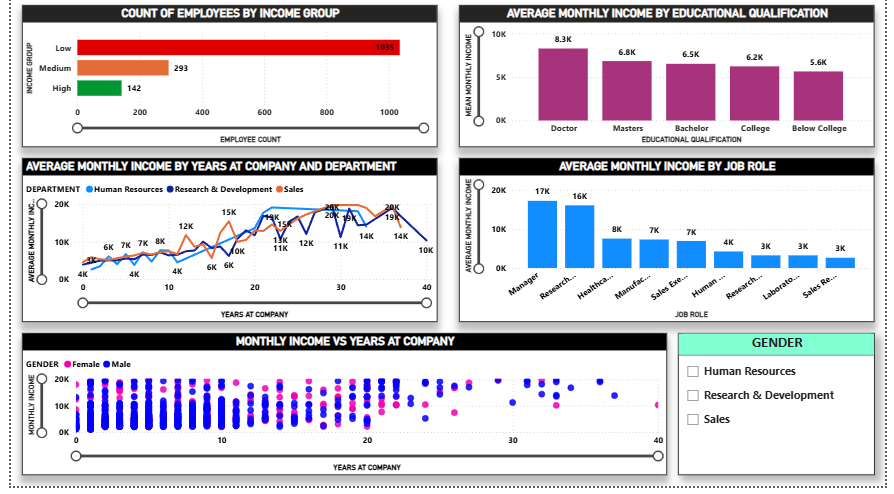

What the dashboard file says about the page in this screenshot:
{"tool":"powerbi","page":{"name":"Page 3-Income & Compensation","canvas":[1280,720],"ordinal":2},"visuals":[{"type":"barChart","title":"COUNT OF EMPLOYEES BY INCOME GROUP","fields":{"Category":["HR Employee Attrition.Income_Group"],"Y":["View.Count_Of_Employees"]},"box":[16,16,608,208],"z":0},{"type":"clusteredColumnChart","title":"AVERAGE MONTHLY INCOME BY JOB ROLE","fields":{"Y":["View.Average_Monthly_Income"],"Category":["HR Employee Attrition.Job_Role"]},"box":[656,240,608,240],"z":1000},{"type":"clusteredColumnChart","title":"AVERAGE MONTHLY INCOME BY EDUCATIONAL QUALIFICATION","fields":{"Category":["HR Employee Attrition.Educational_Qualification"],"Y":["View.Average_Monthly_Income"]},"box":[656,16,608,208],"z":2000},{"type":"scatterChart","title":"MONTHLY INCOME VS YEARS AT COMPANY","fields":{"Y":["HR Employee Attrition.Monthly_Income"],"X":["HR Employee Attrition.Years_At_Company"],"Series":["HR Employee Attrition.Gender"]},"box":[16,496,944,208],"z":3000},{"type":"lineChart","title":"AVERAGE MONTHLY INCOME BY YEARS AT COMPANY AND DEPARTMENT","fields":{"Category":["HR Employee Attrition.Years_At_Company"],"Y":["View.Average_Monthly_Income"],"Series":["HR Employee Attrition.Department"]},"box":[16,240,608,240],"z":4000},{"type":"slicer","title":"GENDER","fields":{"Values":["HR Employee Attrition.Department"]},"box":[976,496,288,208],"z":5001}]}

Visuals, with their boxes in screenshot pixels (x1, y1, x2, y2), scaled from the page's 1280x720 canvas onto the 894x494 screenshot:
"COUNT OF EMPLOYEES BY INCOME GROUP" barChart: detection(11, 11, 436, 154)
"AVERAGE MONTHLY INCOME BY JOB ROLE" clusteredColumnChart: detection(458, 165, 883, 329)
"AVERAGE MONTHLY INCOME BY EDUCATIONAL QUALIFICATION" clusteredColumnChart: detection(458, 11, 883, 154)
"MONTHLY INCOME VS YEARS AT COMPANY" scatterChart: detection(11, 340, 670, 483)
"AVERAGE MONTHLY INCOME BY YEARS AT COMPANY AND DEPARTMENT" lineChart: detection(11, 165, 436, 329)
"GENDER" slicer: detection(682, 340, 883, 483)
